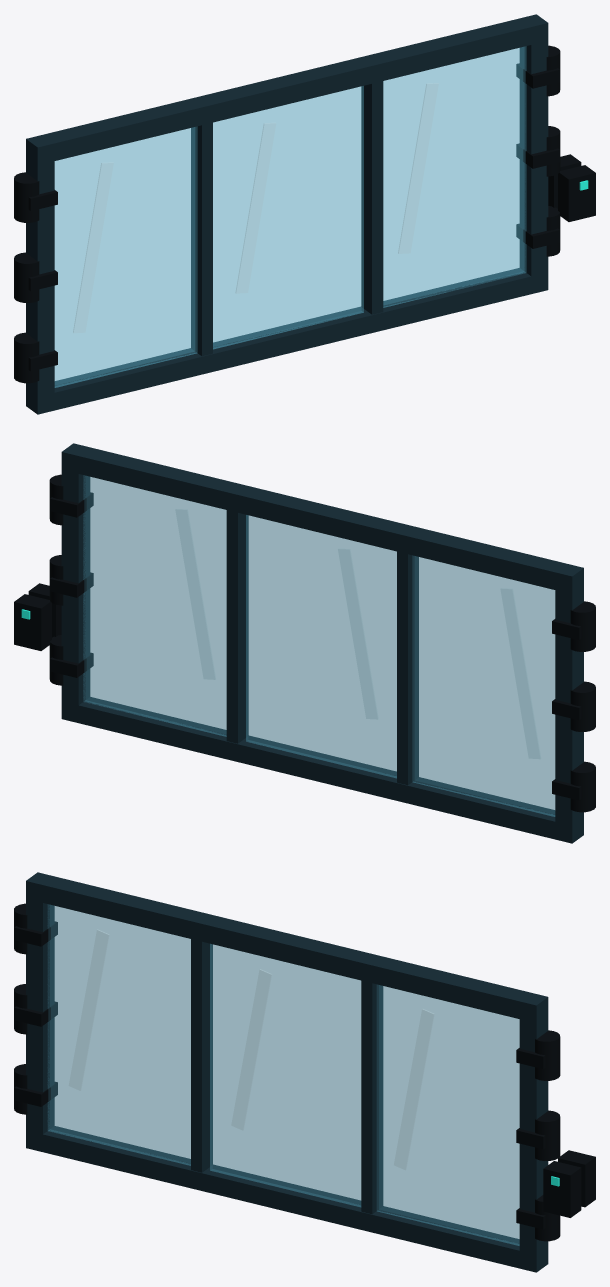
File: screen_window_3pan_1level.glb
The picture shows the model from 3 angles, top to bottom: view 1: azimuth 30°, elevation 25°; view 2: azimuth 150°, elevation 25°; view 3: azimuth 330°, elevation 25°; orthographic projection.
Parts seen in each view (by area): view 1: Glass_Pane_2, Glass_Pane_3, Glass_Pane_1, Frame_Top, Frame_Bottom, Frame_Right, Mullion_2, Mullion_1, Frame_Left, Reflection_Stripe_2, Reflection_Stripe_3, Reflection_Stripe_1 (+8 smaller); view 2: Glass_Pane_2, Glass_Pane_3, Glass_Pane_1, Frame_Top, Frame_Bottom, Frame_Right, Mullion_2, Mullion_1, Frame_Left, Control_Back_Box, Hinge_Left_0.2, Hinge_Left_0.5 (+5 smaller); view 3: Glass_Pane_2, Glass_Pane_1, Glass_Pane_3, Frame_Top, Frame_Bottom, Frame_Left, Mullion_2, Mullion_1, Frame_Right, Reflection_Stripe_1, Reflection_Stripe_3, Reflection_Stripe_2 (+8 smaller).
Boxes of the visible parts, box(x1,y1,x2,y2) form: Glass_Pane_2: box(213, 86, 363, 349); Glass_Pane_3: box(383, 46, 526, 307); Glass_Pane_1: box(54, 127, 197, 387); Frame_Top: box(26, 14, 548, 165); Frame_Bottom: box(26, 268, 548, 414); Frame_Right: box(519, 41, 548, 276); Mullion_2: box(361, 81, 383, 314); Mullion_1: box(191, 122, 212, 356); Frame_Left: box(26, 157, 54, 396); Reflection_Stripe_2: box(236, 123, 275, 292); Reflection_Stripe_3: box(398, 83, 438, 253); Reflection_Stripe_1: box(73, 163, 113, 332); Glass_Pane_2: box(246, 515, 396, 778); Glass_Pane_3: box(83, 475, 226, 736); Glass_Pane_1: box(412, 556, 555, 816); Frame_Top: box(61, 443, 583, 594); Frame_Bottom: box(61, 697, 583, 843); Frame_Right: box(61, 470, 90, 705); Mullion_2: box(226, 510, 248, 743); Mullion_1: box(397, 551, 418, 785); Frame_Left: box(555, 586, 583, 825); Control_Back_Box: box(14, 594, 51, 650); Hinge_Left_0.2: box(570, 761, 595, 812); Hinge_Left_0.5: box(570, 681, 595, 731); Glass_Pane_2: box(210, 944, 361, 1207); Glass_Pane_1: box(48, 904, 190, 1165); Glass_Pane_3: box(377, 985, 519, 1245); Frame_Top: box(26, 872, 548, 1023); Frame_Bottom: box(26, 1126, 548, 1272); Frame_Left: box(26, 899, 54, 1134); Mullion_2: box(361, 980, 383, 1214); Mullion_1: box(191, 939, 212, 1172); Frame_Right: box(519, 1015, 548, 1254); Reflection_Stripe_1: box(69, 930, 108, 1090); Reflection_Stripe_3: box(394, 1009, 433, 1169); Reflection_Stripe_2: box(232, 969, 271, 1129).
Size of the model in its own units: 3.33 by 1.5 by 0.3008.
